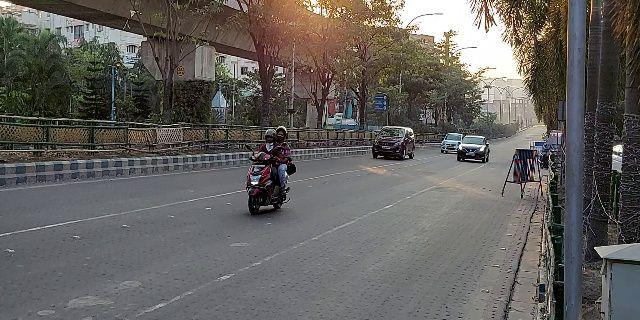Car: (367, 124, 418, 163), (457, 132, 491, 166), (437, 129, 463, 155)
Motorbike: (244, 124, 297, 220)
